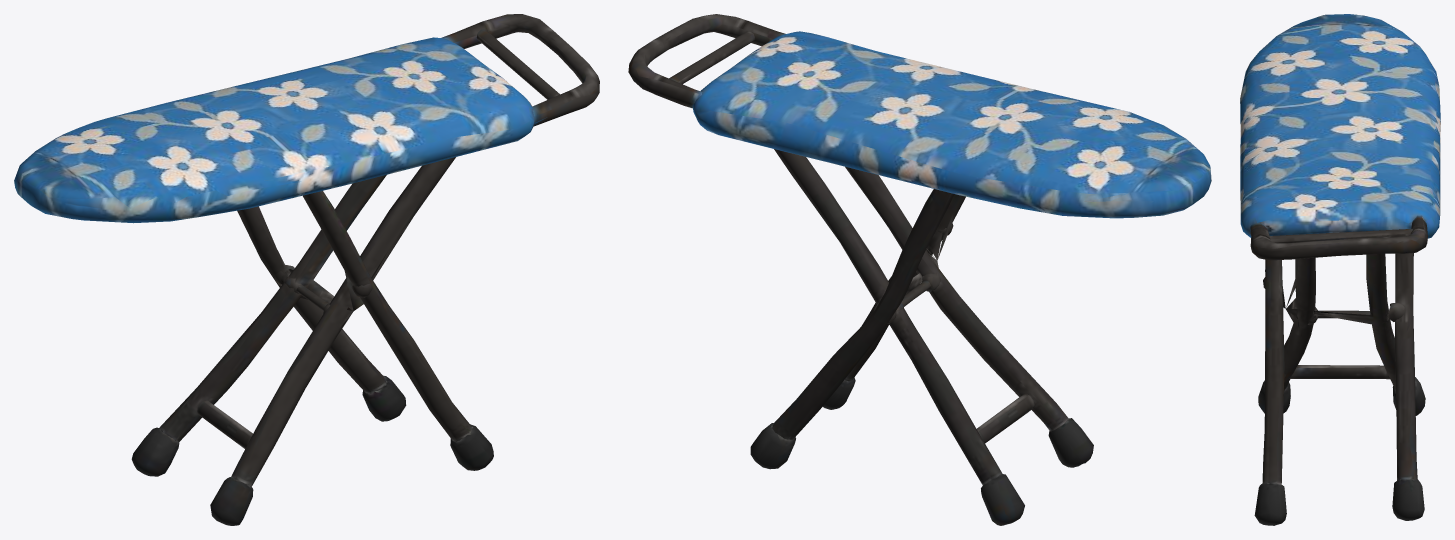
The model's file is ironing_board.glb.
3 renders of one model, left to right at view 1: azimuth 30°, elevation 25°; view 2: azimuth 150°, elevation 25°; view 3: azimuth 270°, elevation 25°, orthographic. The views are drawn at different scales.
Parts seen in each view (by area): view 1: Mesh0; view 2: Mesh0; view 3: Mesh0.
Part boxes in pixels (x1,y1,x2,y2): Mesh0: [14, 14, 599, 525]; Mesh0: [628, 14, 1211, 525]; Mesh0: [1240, 14, 1440, 525].
Bounding box in the file's own units: 1 × 0.6664 × 0.3515.
Materials: 1 (1 with a texture image).
